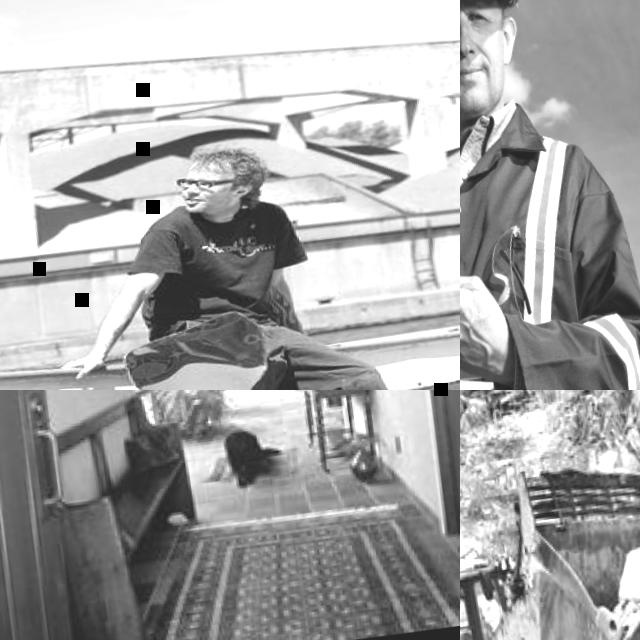NO-Hardhat: (187, 143, 265, 180)
NO-Mask: (460, 46, 513, 120), (182, 185, 240, 214)
NO-Safety Vest: (140, 190, 298, 329)
Person: (37, 121, 457, 390), (460, 0, 640, 390)
Safety Vest: (460, 127, 640, 390)
machinery: (460, 409, 640, 640)
